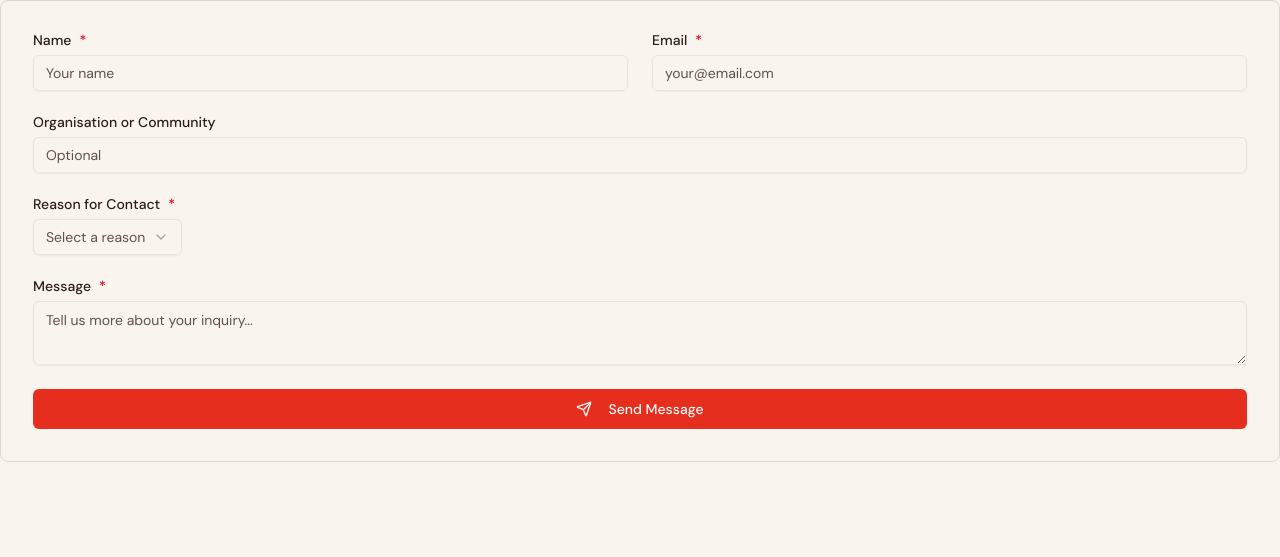
Test: ContactForm › shows an error message when the request fails
Type "Jane Doe" into the field labelled "Name *".
click(330, 73); type("Jane Doe")  # box left=33, top=55, right=628, bottom=91
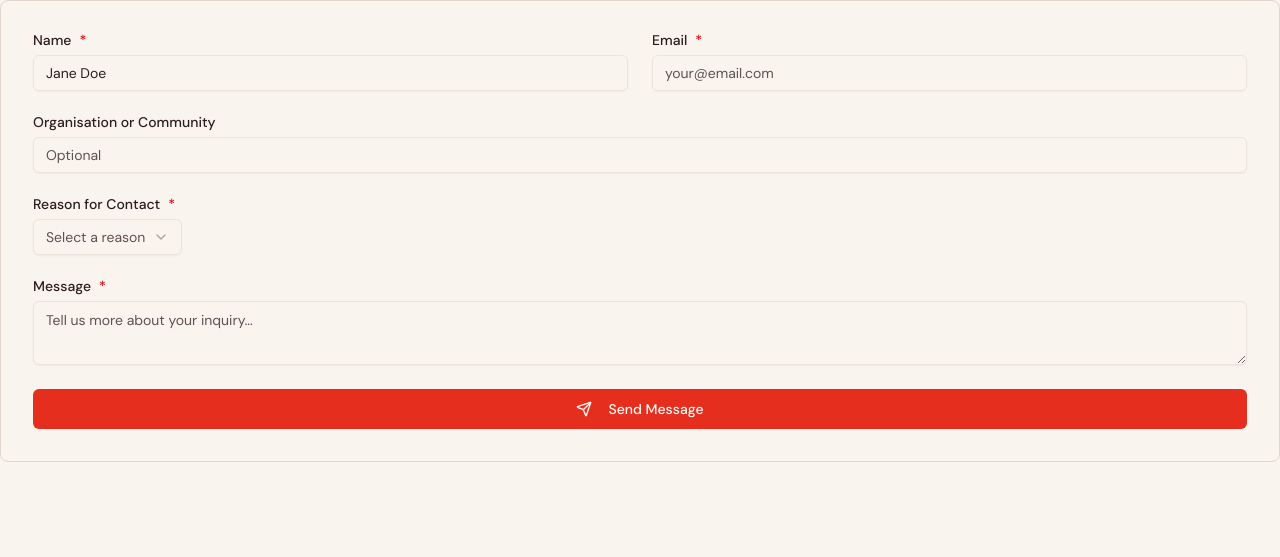
Type "jane@example.com" into the field labelled "Email *".
click(950, 73); type("jane@example.com")  # box left=652, top=55, right=1247, bottom=91
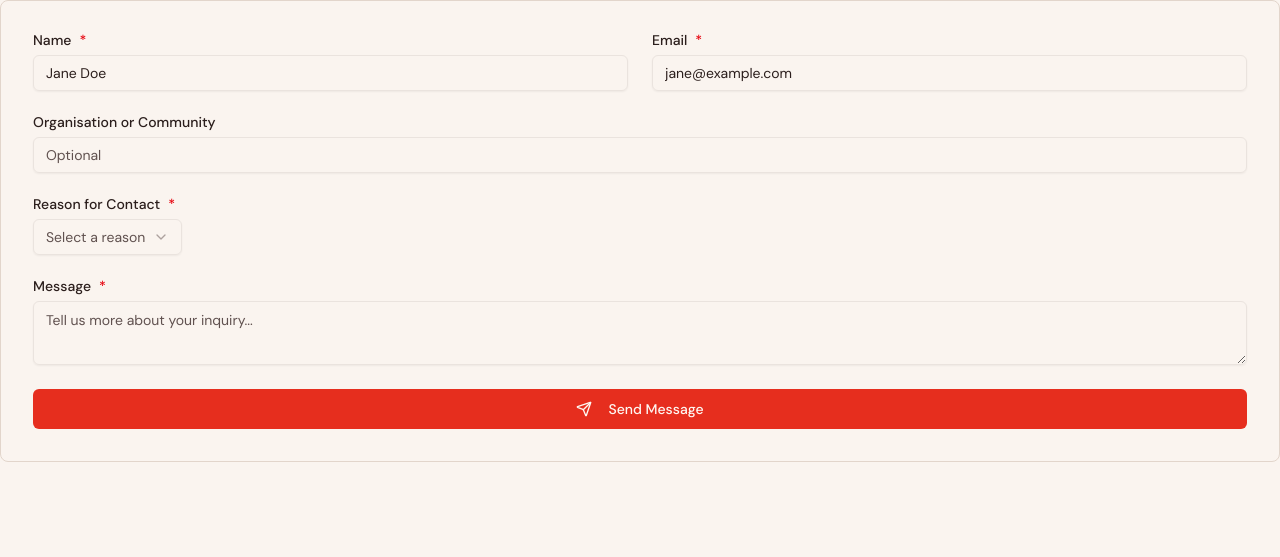
Click the dropdown named "reason for contact".
click(108, 237)  # box left=33, top=219, right=182, bottom=255
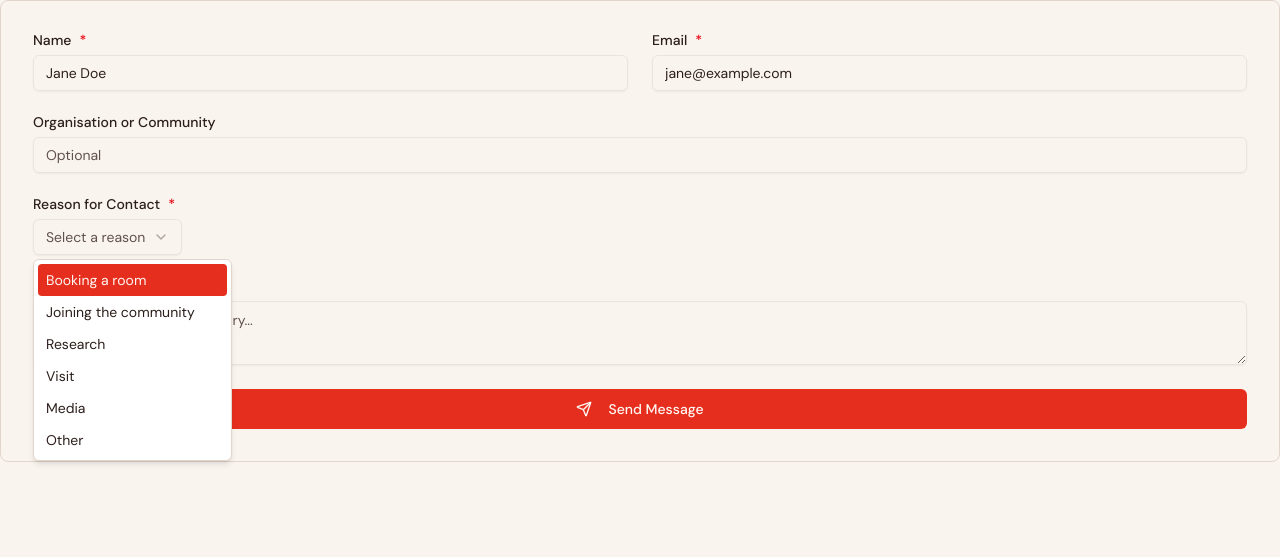
Click the option "Visit".
click(60, 376)  # box left=46, top=367, right=75, bottom=385
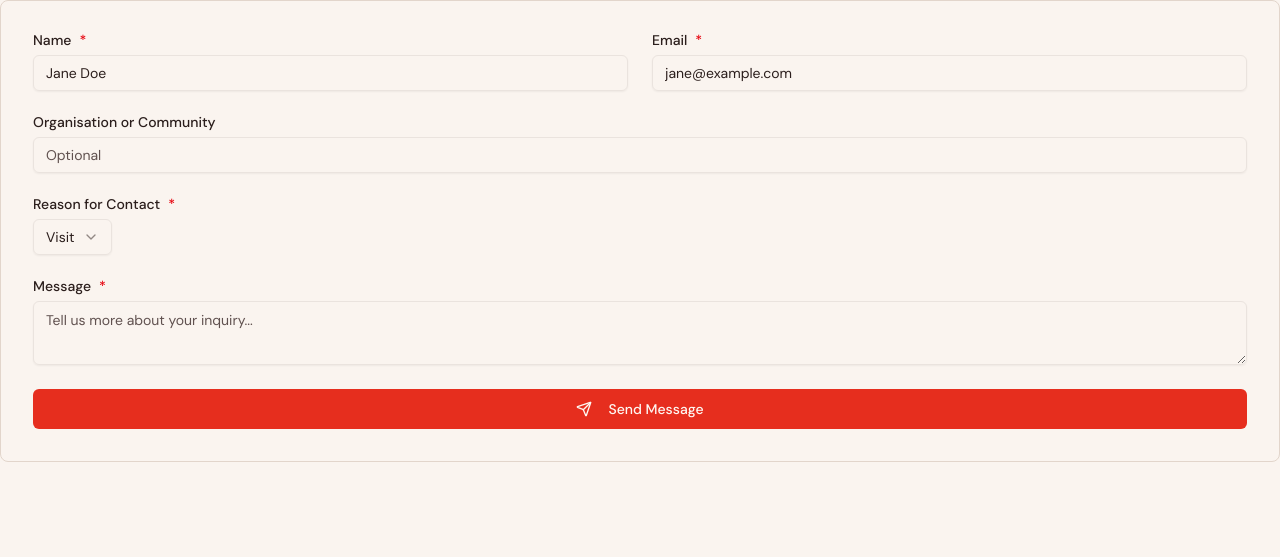
Type "Hello team, I would like to discuss using the space for an event, understand availability, clarify pricing, and make sure the format I have in mind would fit well with the hub and its schedule." into the text box labelled "Message *".
click(640, 333); type("Hello team, I would like to discuss using the space for an event, understand availability, clarify pricing, and make sure the format I have in mind would fit well with the hub and its schedule.")  # box left=33, top=301, right=1247, bottom=365
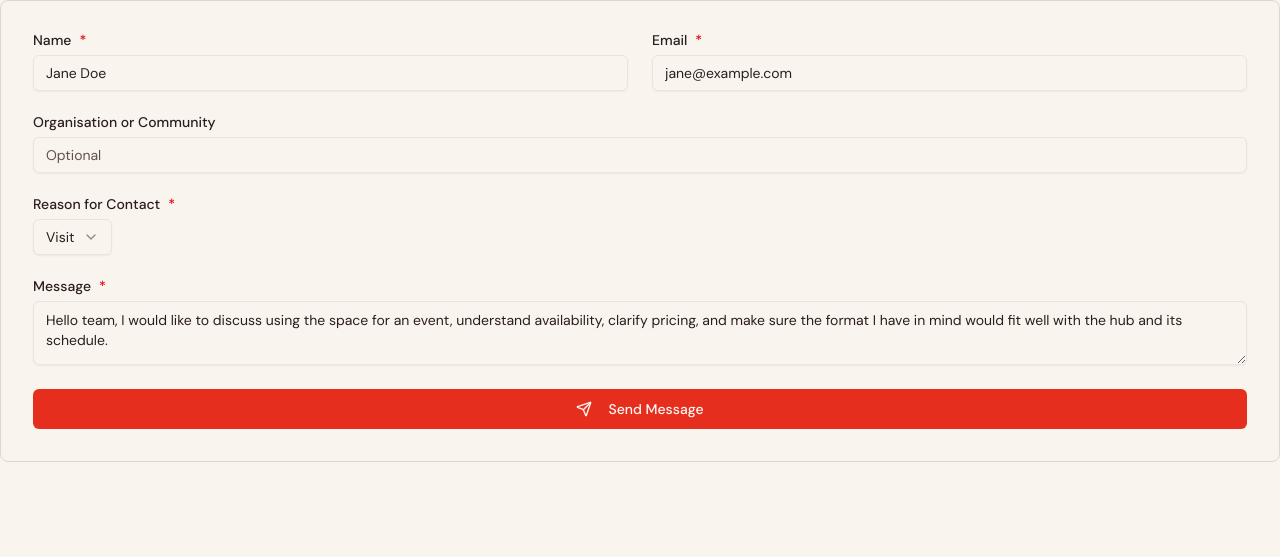
Click the button "Send Message".
click(640, 409)  # box left=33, top=389, right=1247, bottom=429
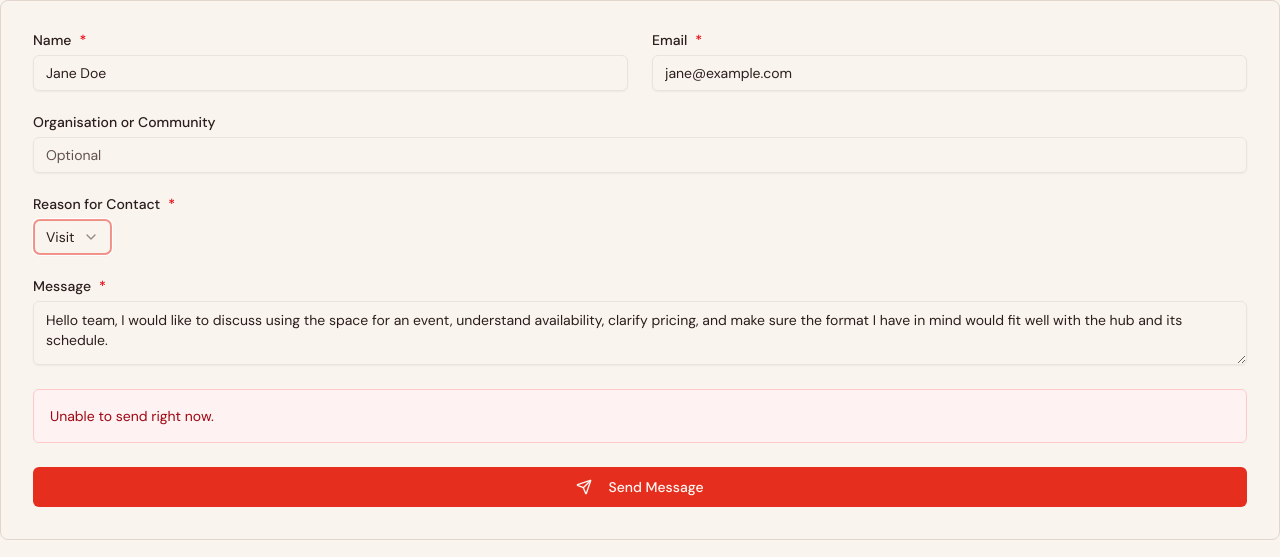
Result: the message shows "Unable to send right now" at left=50, top=407, right=214, bottom=425
